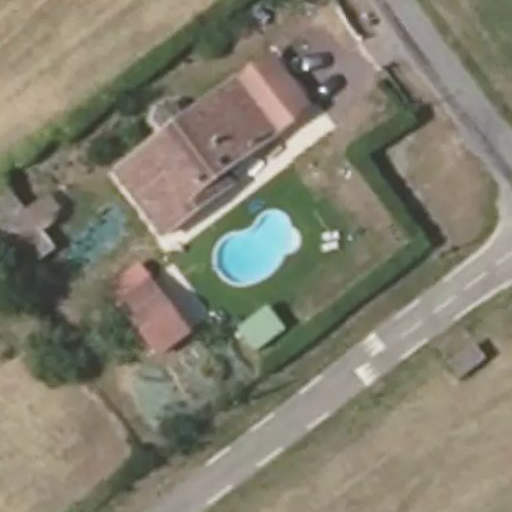pool: (204, 241, 306, 246)
